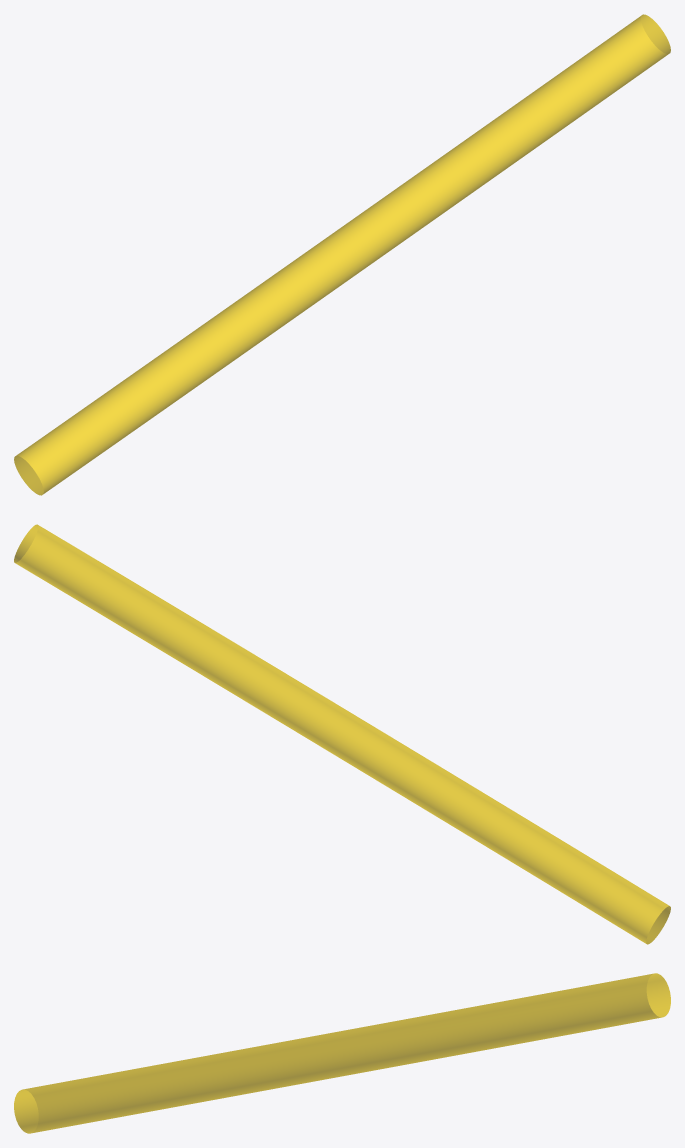
Rendered from Event_100608114_track_19.fbx.
The picture shows the model from 3 angles, top to bottom: view 1: azimuth 30°, elevation 25°; view 2: azimuth 150°, elevation 25°; view 3: azimuth 330°, elevation 25°; orthographic projection. The views are drawn at different scales.
Visible parts, largest first — view 1: Model; view 2: Model; view 3: Model.
Boxes of the visible parts, x1,y1,x2,y2 form: Model: [14, 14, 670, 495]; Model: [14, 524, 670, 944]; Model: [14, 973, 670, 1133].
Size of the model in its own units: 0.6441 by 0.2825 by 0.0795.
